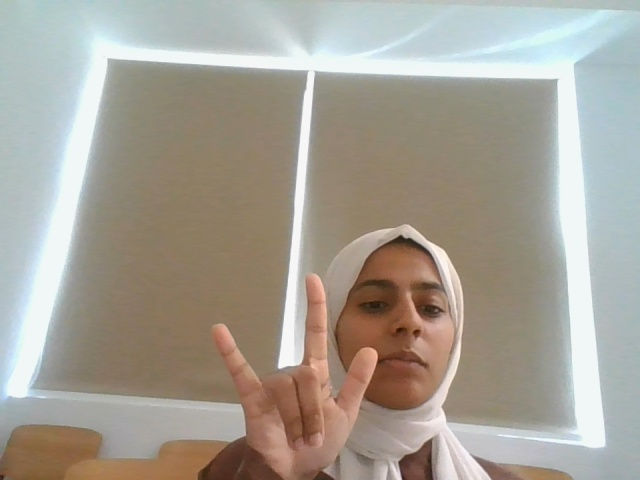love: (193, 274, 383, 480)
